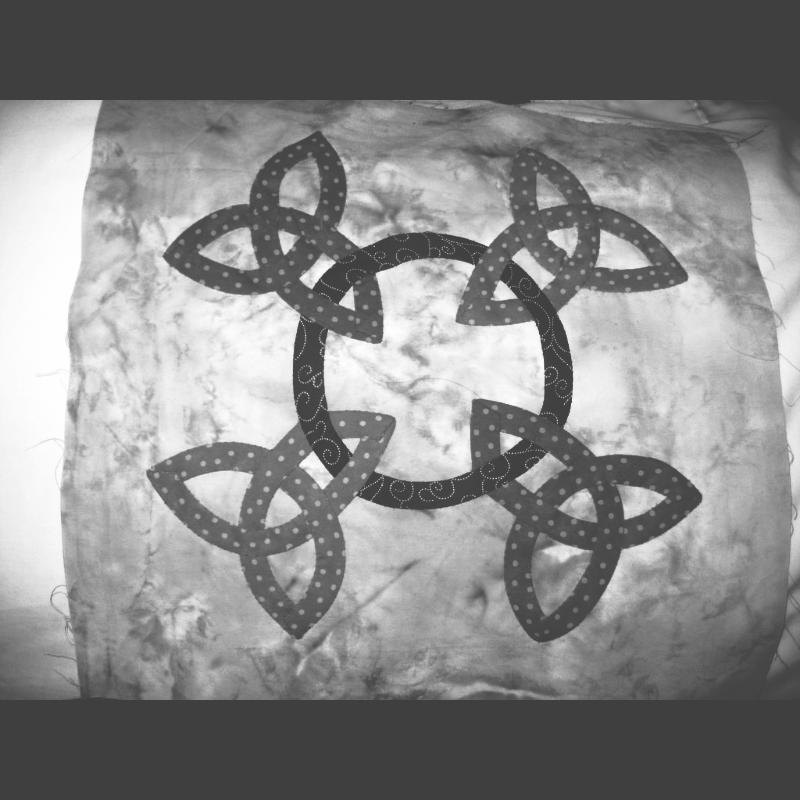pillow: (43, 100, 713, 700)
